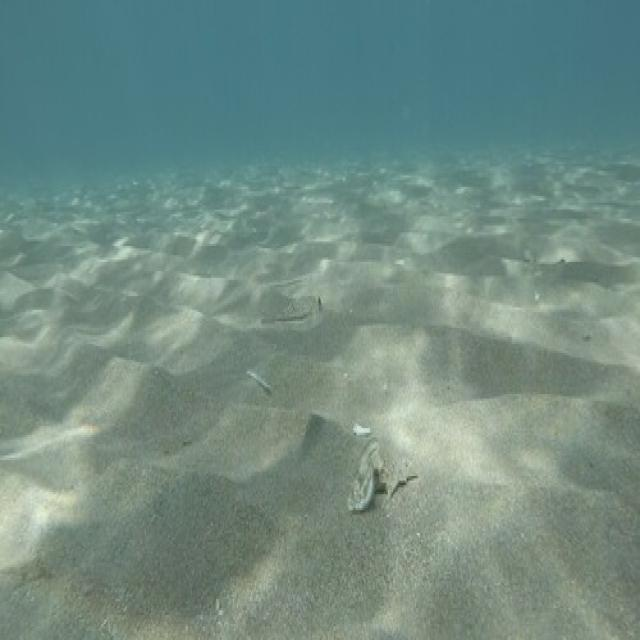Balik: (262, 298, 321, 326)
